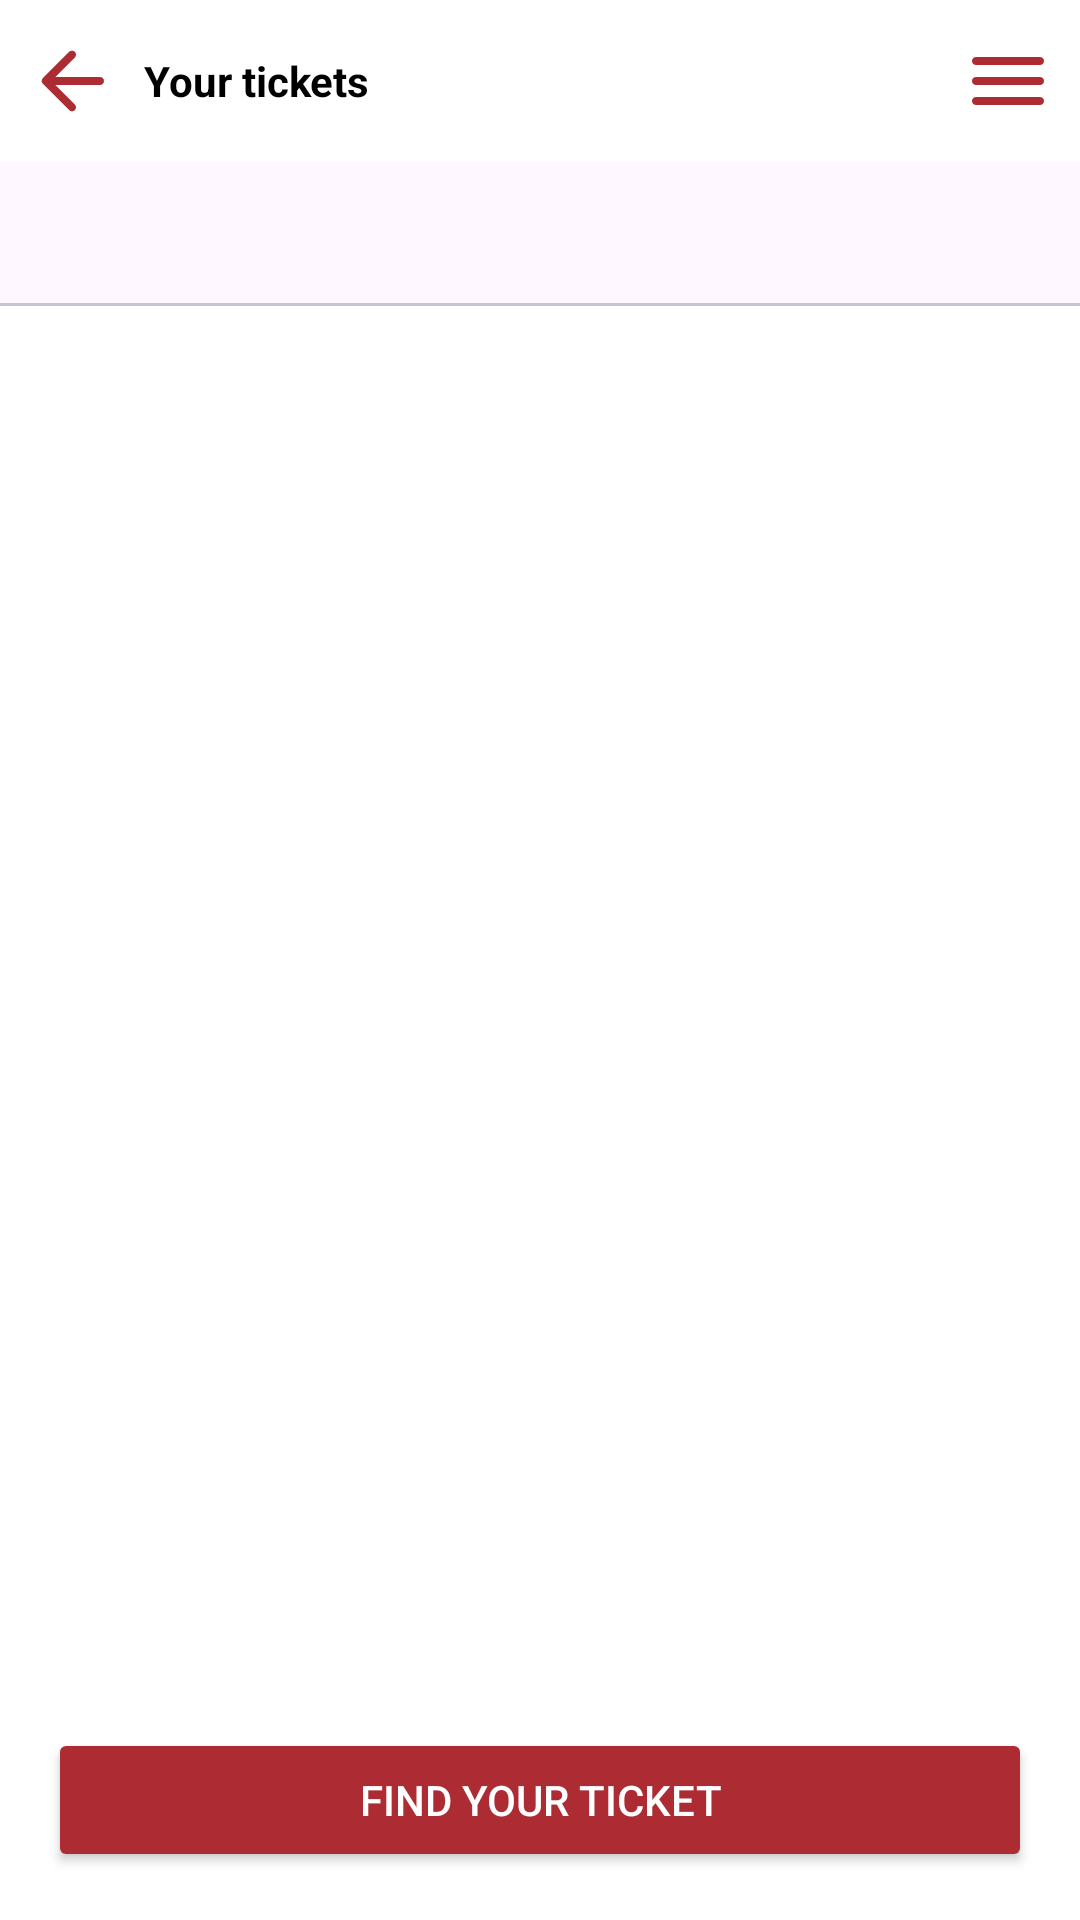

Where icons sit on this 1080px×1920px app screen, as (x1, y1, x2, y2):
back arrow: (41, 50, 104, 112)
menu: (972, 57, 1044, 105)
